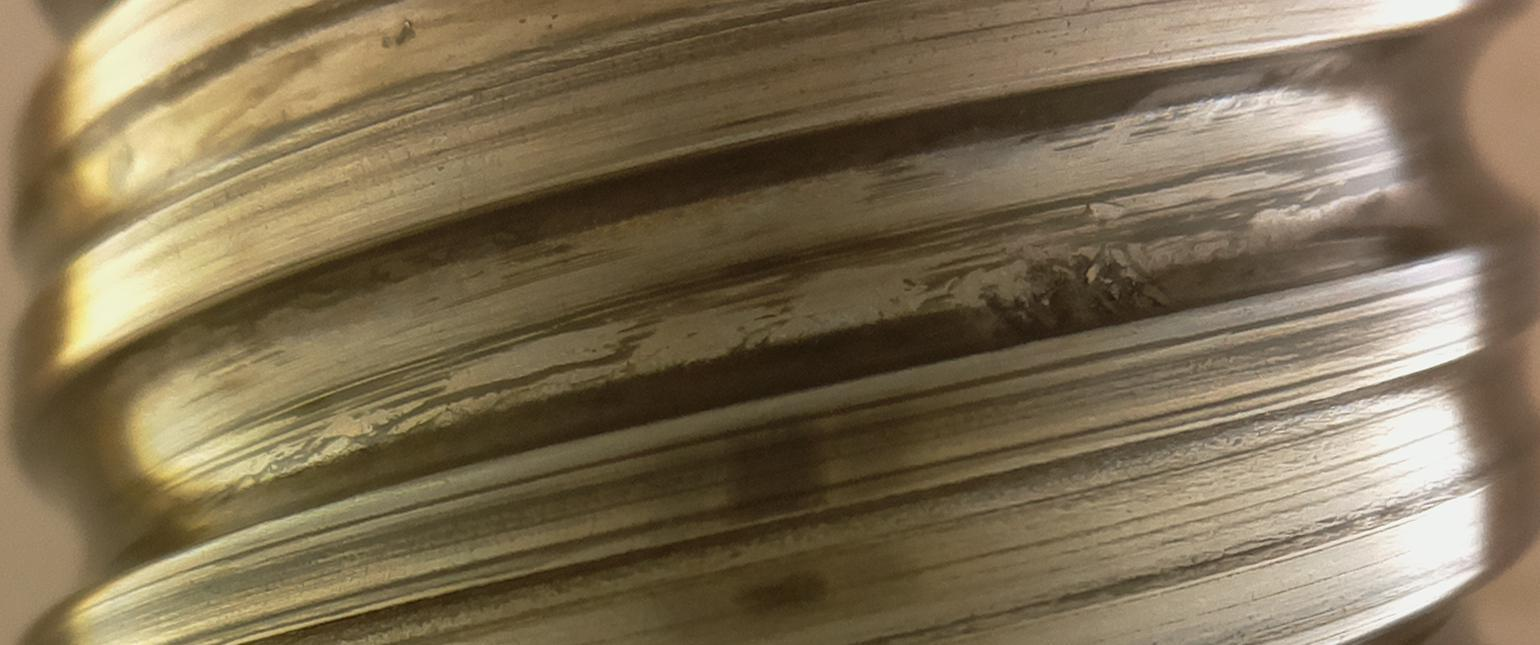pitting: (977, 254, 1161, 345)
